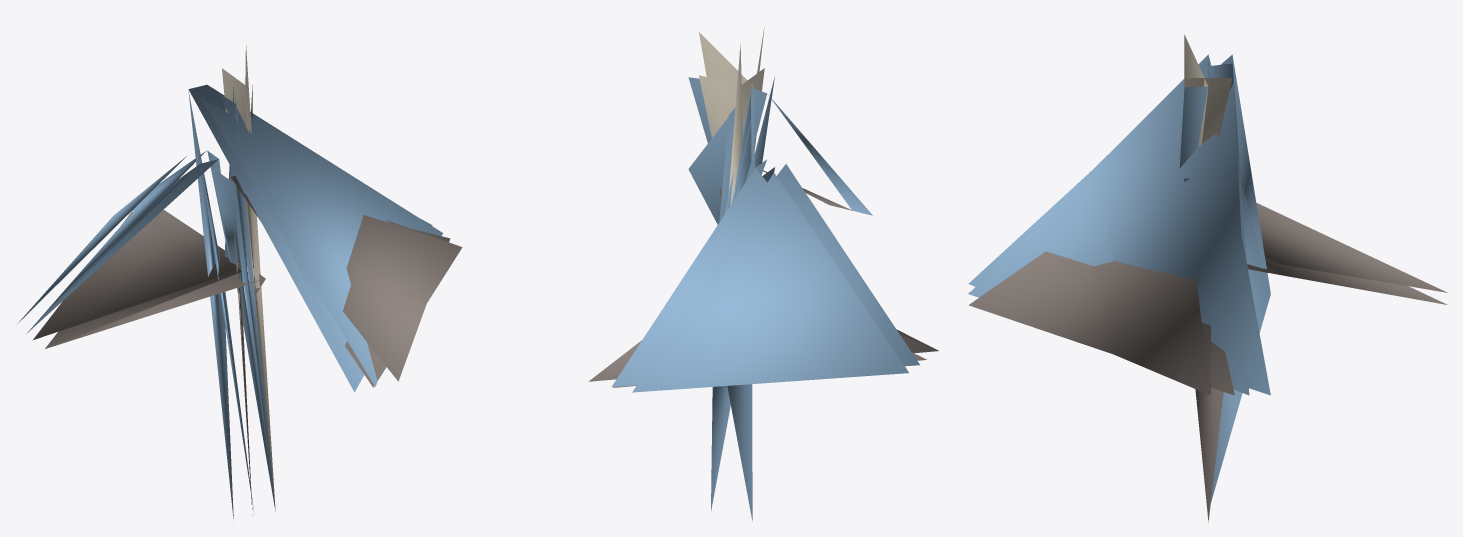
The model's file is npc_guide_walk.glb.
3 views of the same model, side by side, from view 1: azimuth 30°, elevation 25°; view 2: azimuth 150°, elevation 25°; view 3: azimuth 270°, elevation 25° (orthographic).
Parts seen in each view (by area): view 1: npc_guide_walk; view 2: npc_guide_walk; view 3: npc_guide_walk.
Boxes of the visible parts, x1,y1,x2,y2 form: npc_guide_walk: [17, 45, 462, 518]; npc_guide_walk: [588, 26, 938, 521]; npc_guide_walk: [968, 34, 1447, 522].
Bounding box in the file's own units: 2 × 2.24 × 2.
